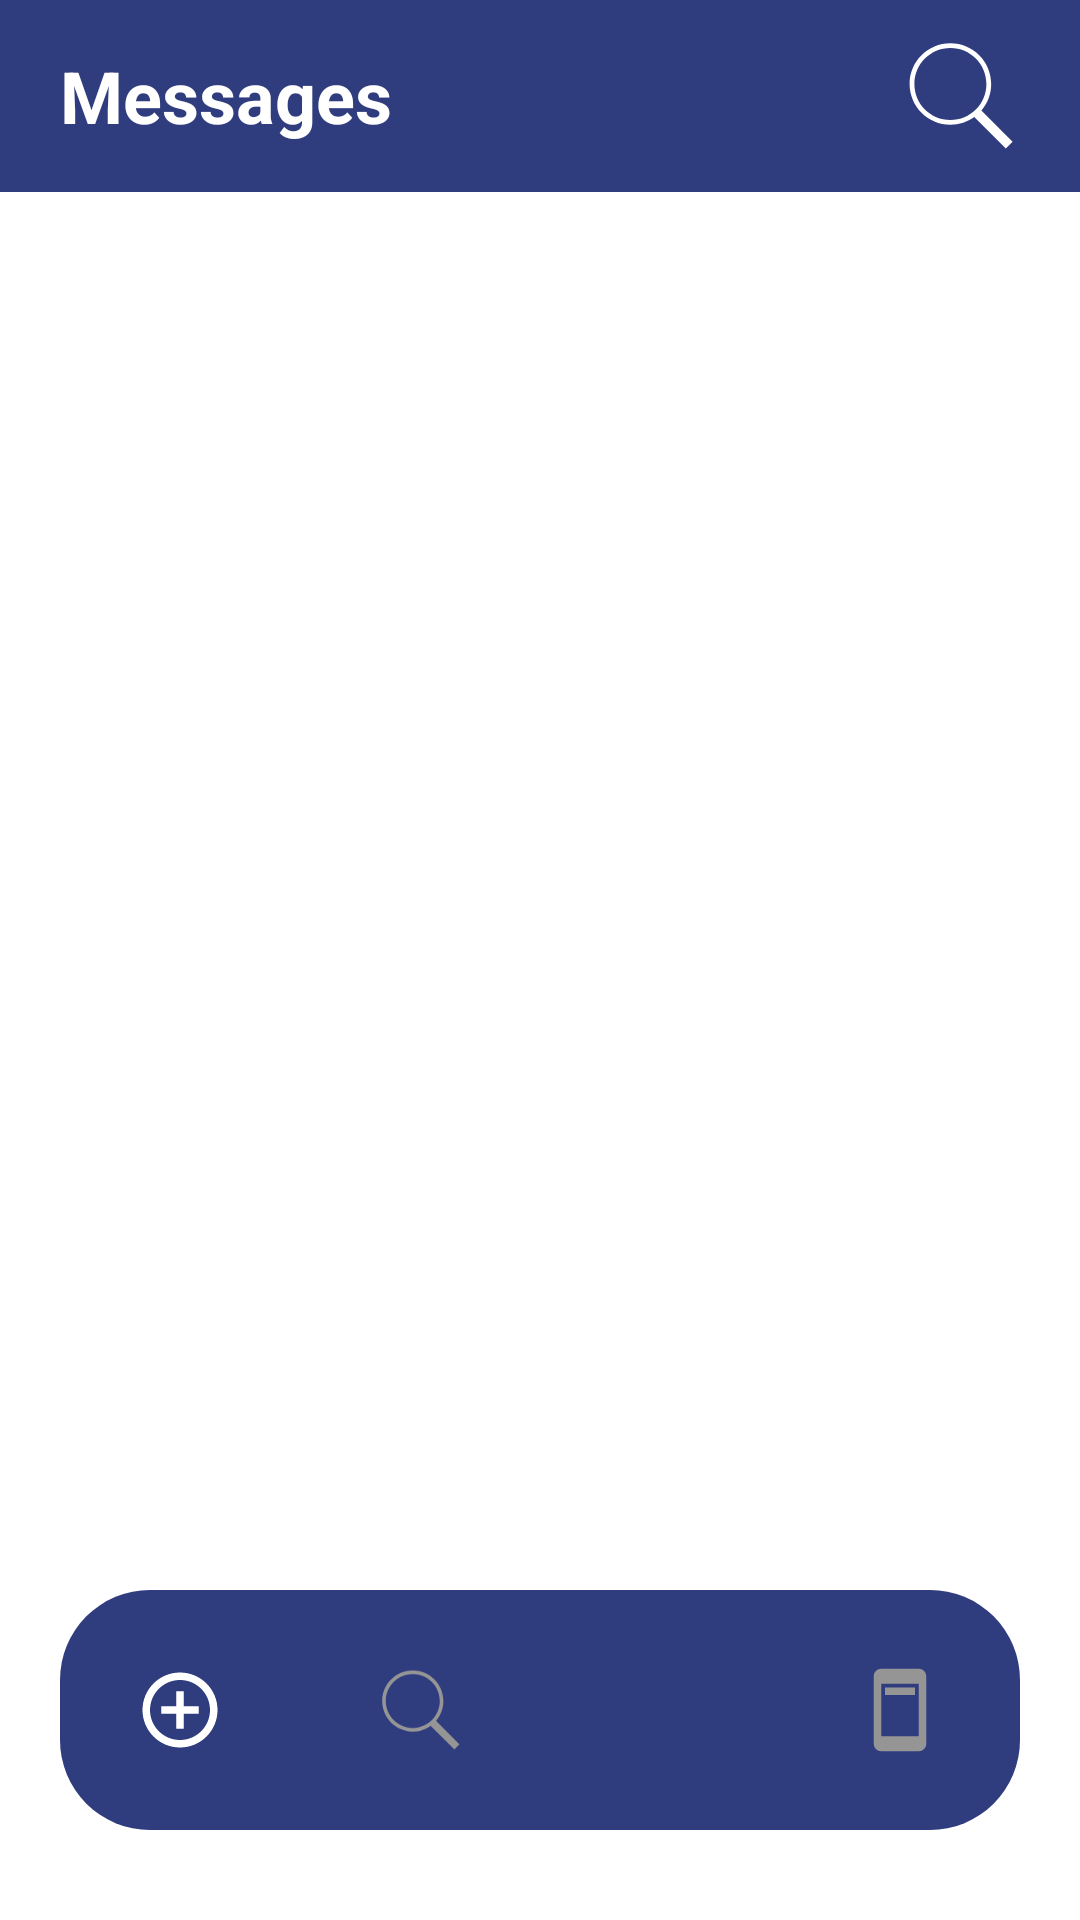

Where icons sit on this 1080px×1920px app screen, as (x1, y1, x2, y2):
Search Chats: (909, 43, 1013, 149)
